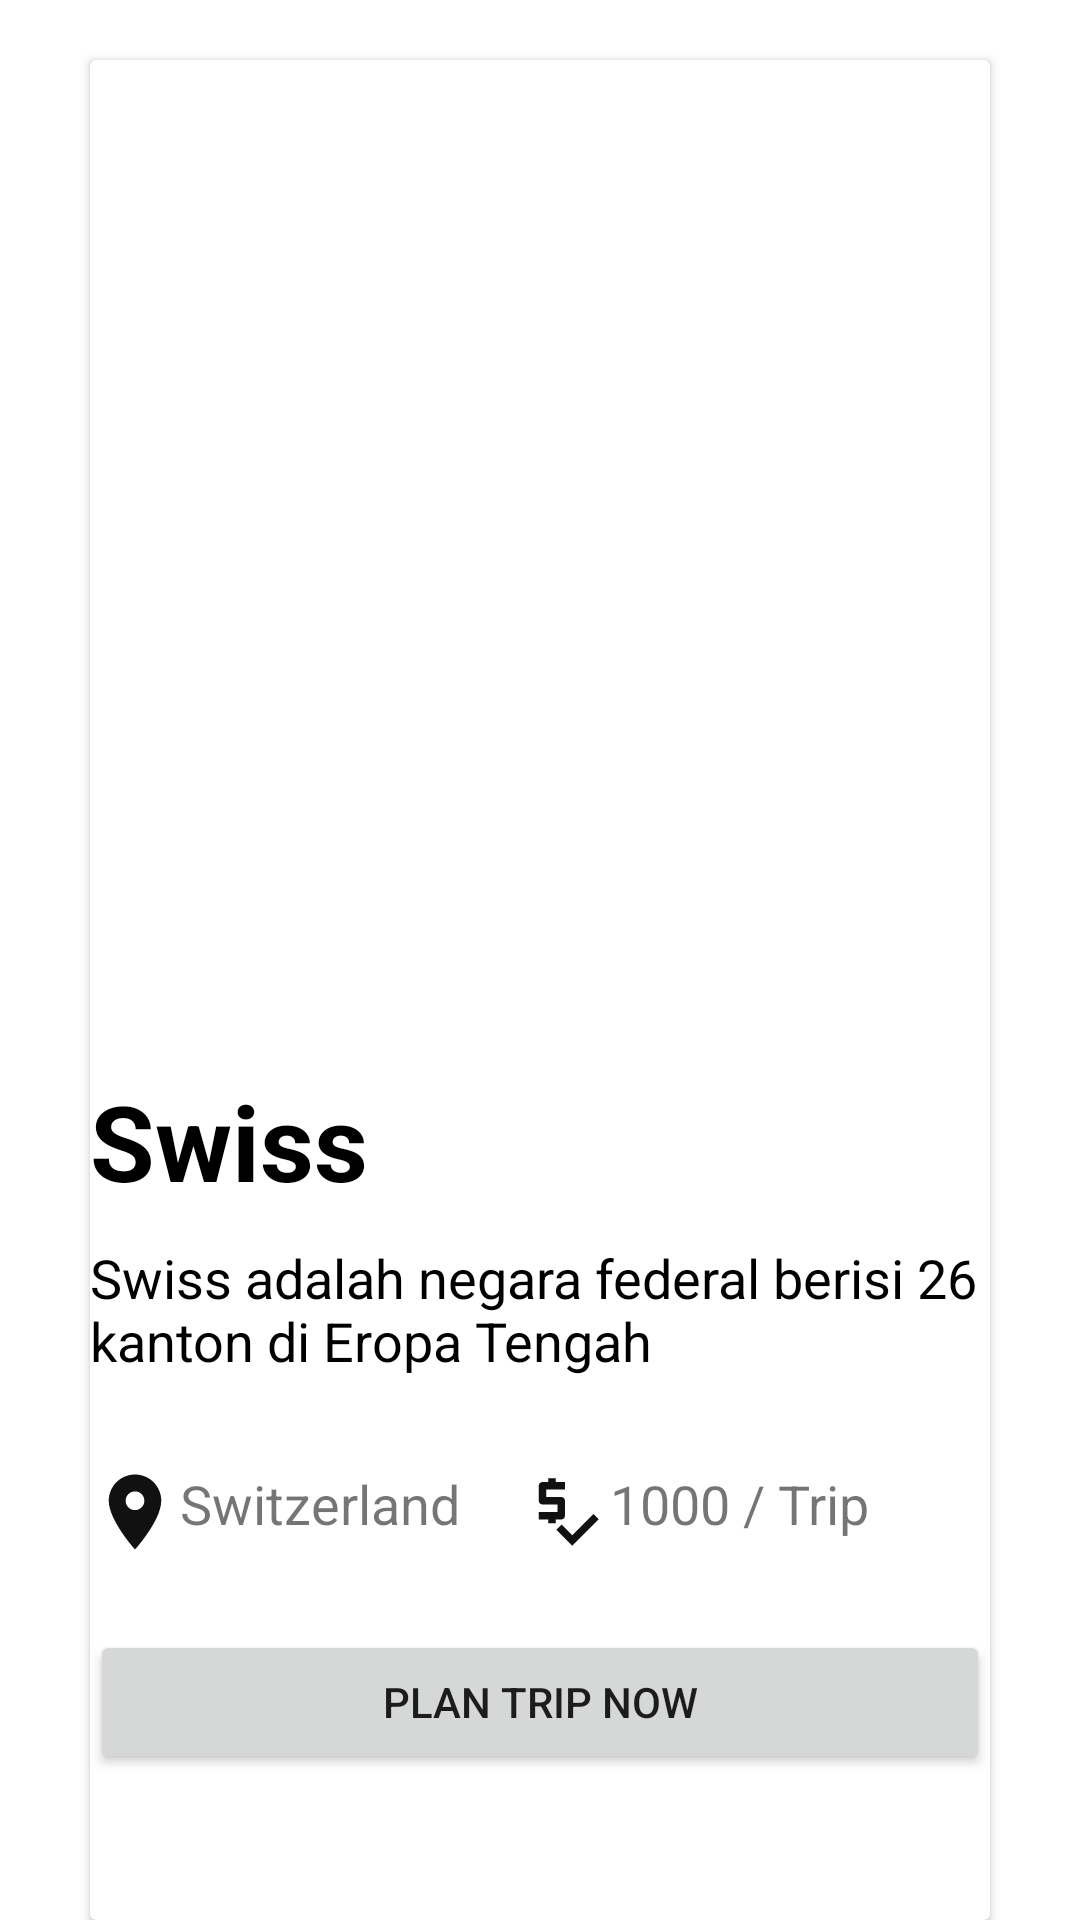

Where to tap for icons on this 1080 x 1920 app screen, as [x,y]:
location on: [135,1511]
price check: [568,1512]
